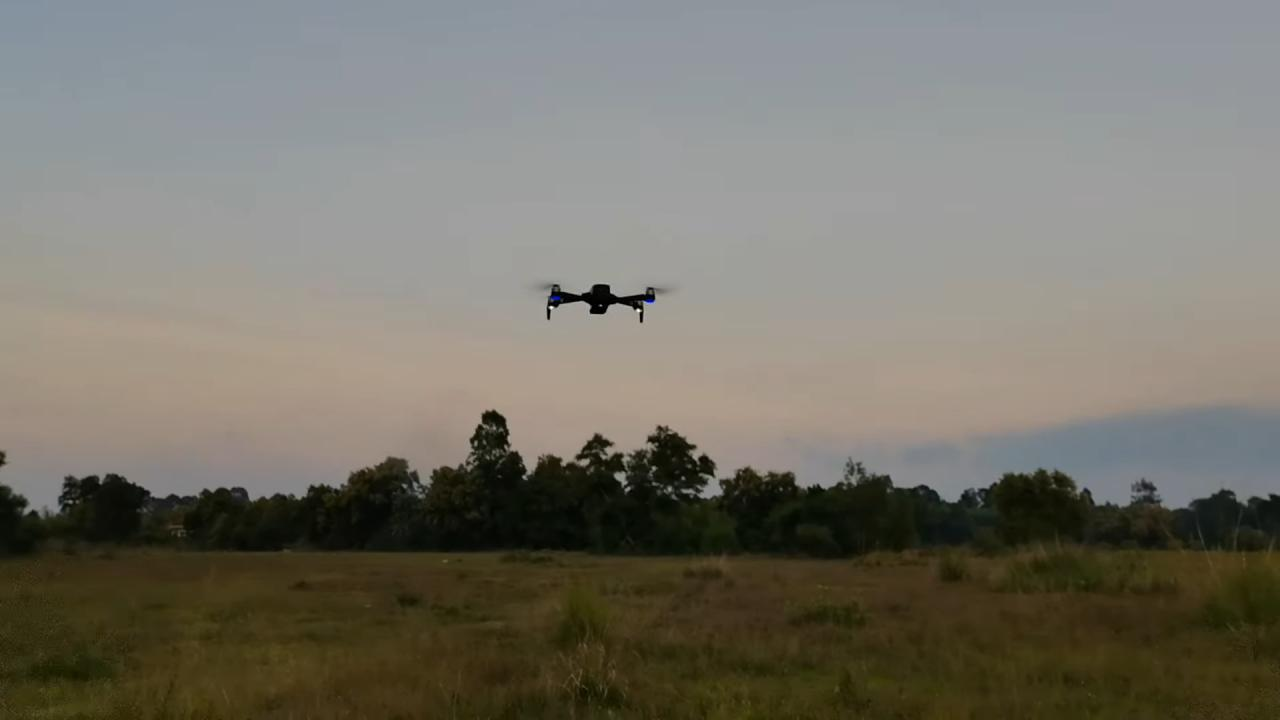Drone: (520, 264, 687, 334)
